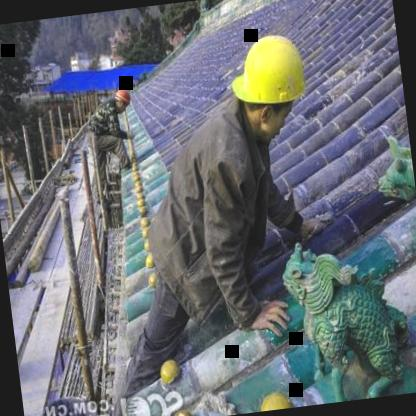helmet: (223, 23, 316, 146), (111, 83, 138, 117)
